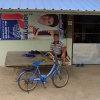bicycles: (17, 52, 71, 93)
